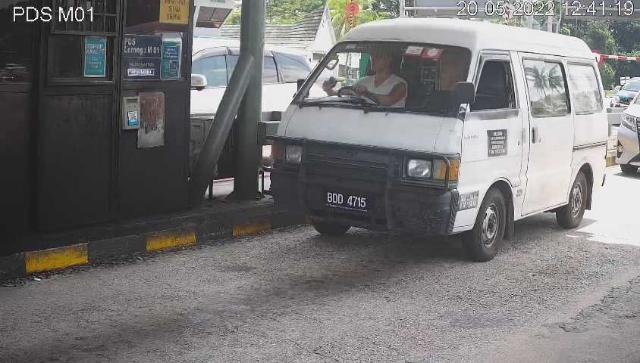License_Plate: (321, 187, 378, 220)
van: (271, 21, 609, 263)
